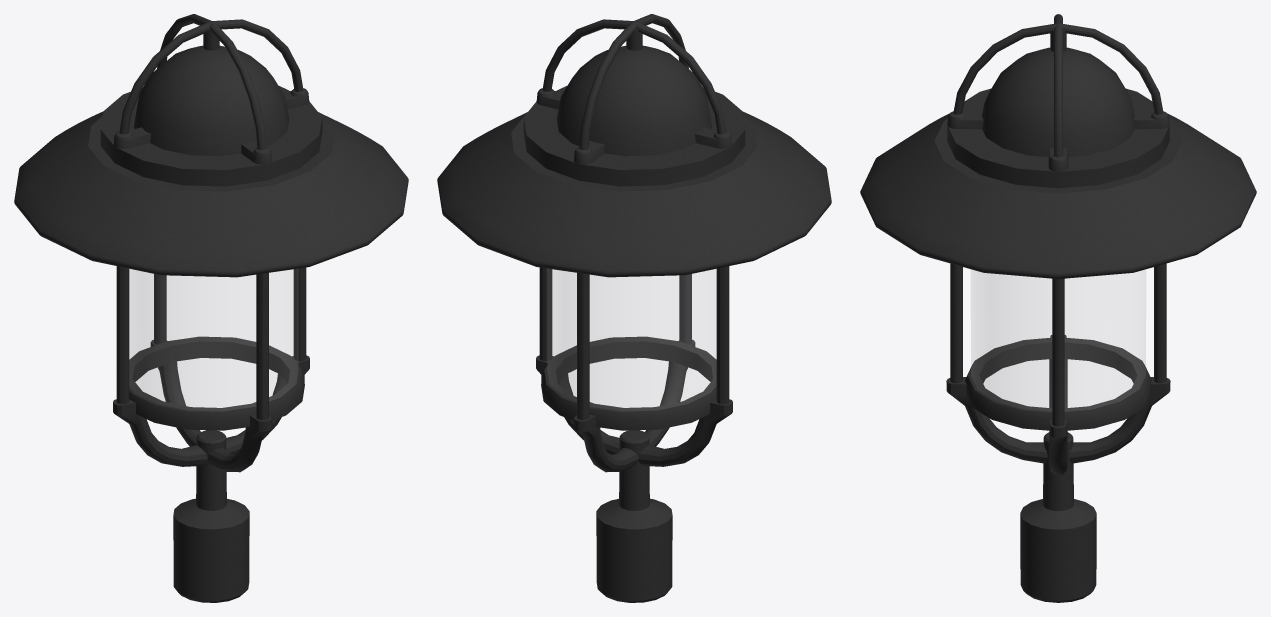
Rendered from Alte_Stadt.glb.
The picture shows the model from 3 angles, left to right: view 1: azimuth 30°, elevation 25°; view 2: azimuth 150°, elevation 25°; view 3: azimuth 270°, elevation 25°; orthographic projection.
Parts seen in each view (by area): view 1: Alte Stadt; view 2: Alte Stadt; view 3: Alte Stadt.
Boxes of the visible parts, left/top/right/bottom form: Alte Stadt: left=14, top=14, right=408, bottom=602; Alte Stadt: left=437, top=14, right=831, bottom=602; Alte Stadt: left=860, top=14, right=1256, bottom=602.
Bounding box in the file's own units: 0.5238 × 0.8235 × 0.5238.
3 materials, 2 textured.
